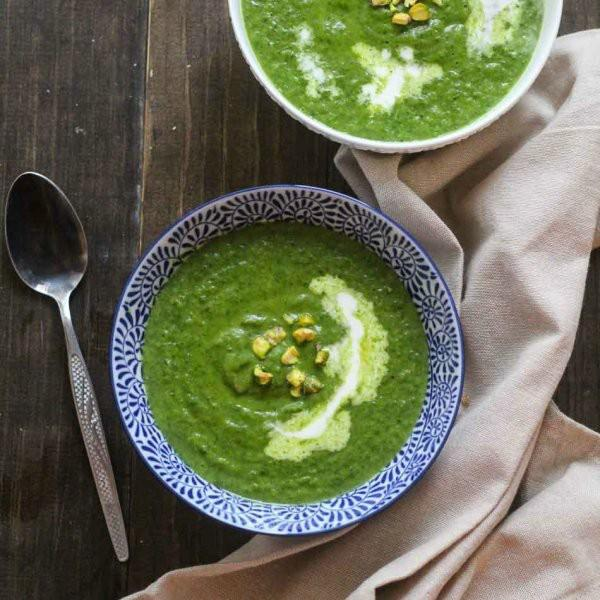PalakPaneer: (143, 221, 433, 506), (238, 0, 546, 141)
